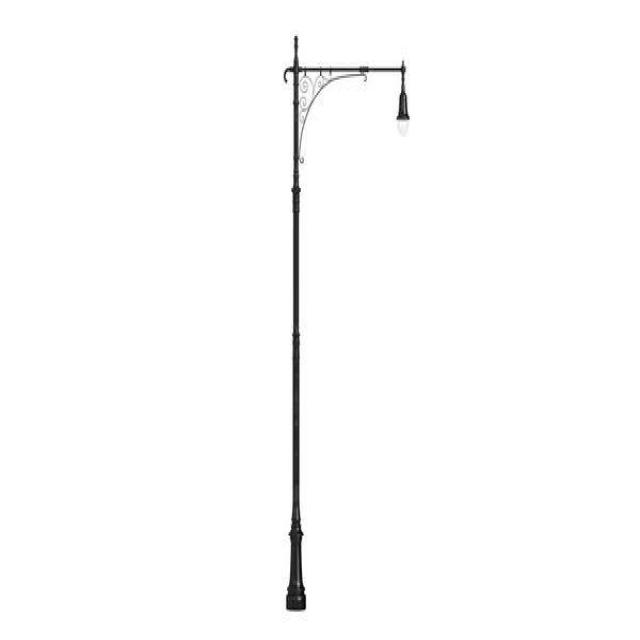Pole: (284, 34, 409, 611)
